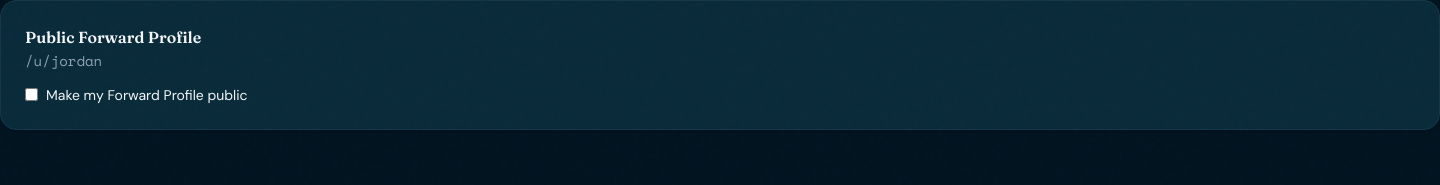
Scenario: ForwardProfileVisibilitySettings › shows an error and does not call onUpdated when the save fails
Click the checkbox labelled "Make my Forward Profile public": (32, 95) [25, 88, 38, 101]
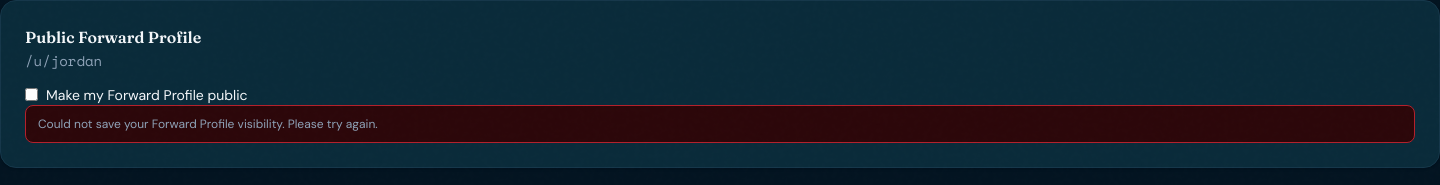
Check: the text "Could not save" is shown, box [38, 116, 378, 132]
